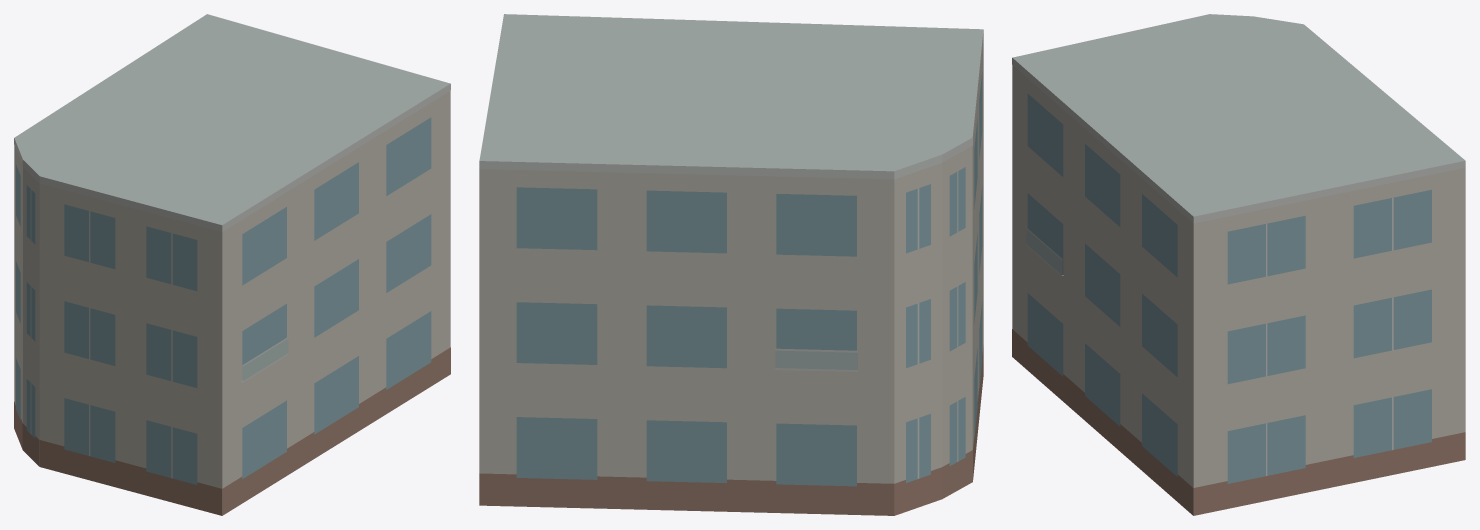
File: survey-upis-33030361.glb
3 views of the same model, side by side, from view 1: azimuth 30°, elevation 25°; view 2: azimuth 150°, elevation 25°; view 3: azimuth 270°, elevation 25° (orthographic). The views are drawn at different scales.
Visible parts, largest first — view 1: survey-upis-33030361.tmp; view 2: survey-upis-33030361.tmp; view 3: survey-upis-33030361.tmp.
Part boxes in pixels (left/top/right/bottom): survey-upis-33030361.tmp: left=14, top=14, right=450, bottom=515; survey-upis-33030361.tmp: left=479, top=14, right=983, bottom=515; survey-upis-33030361.tmp: left=1012, top=14, right=1465, bottom=515.
Bounding box in the file's own units: 15.11 × 10.4 × 14.29.
